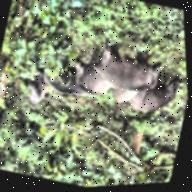boar: (82, 35, 171, 106), (119, 64, 189, 135), (35, 66, 97, 113), (71, 68, 113, 101), (107, 81, 139, 114), (24, 76, 48, 108)
